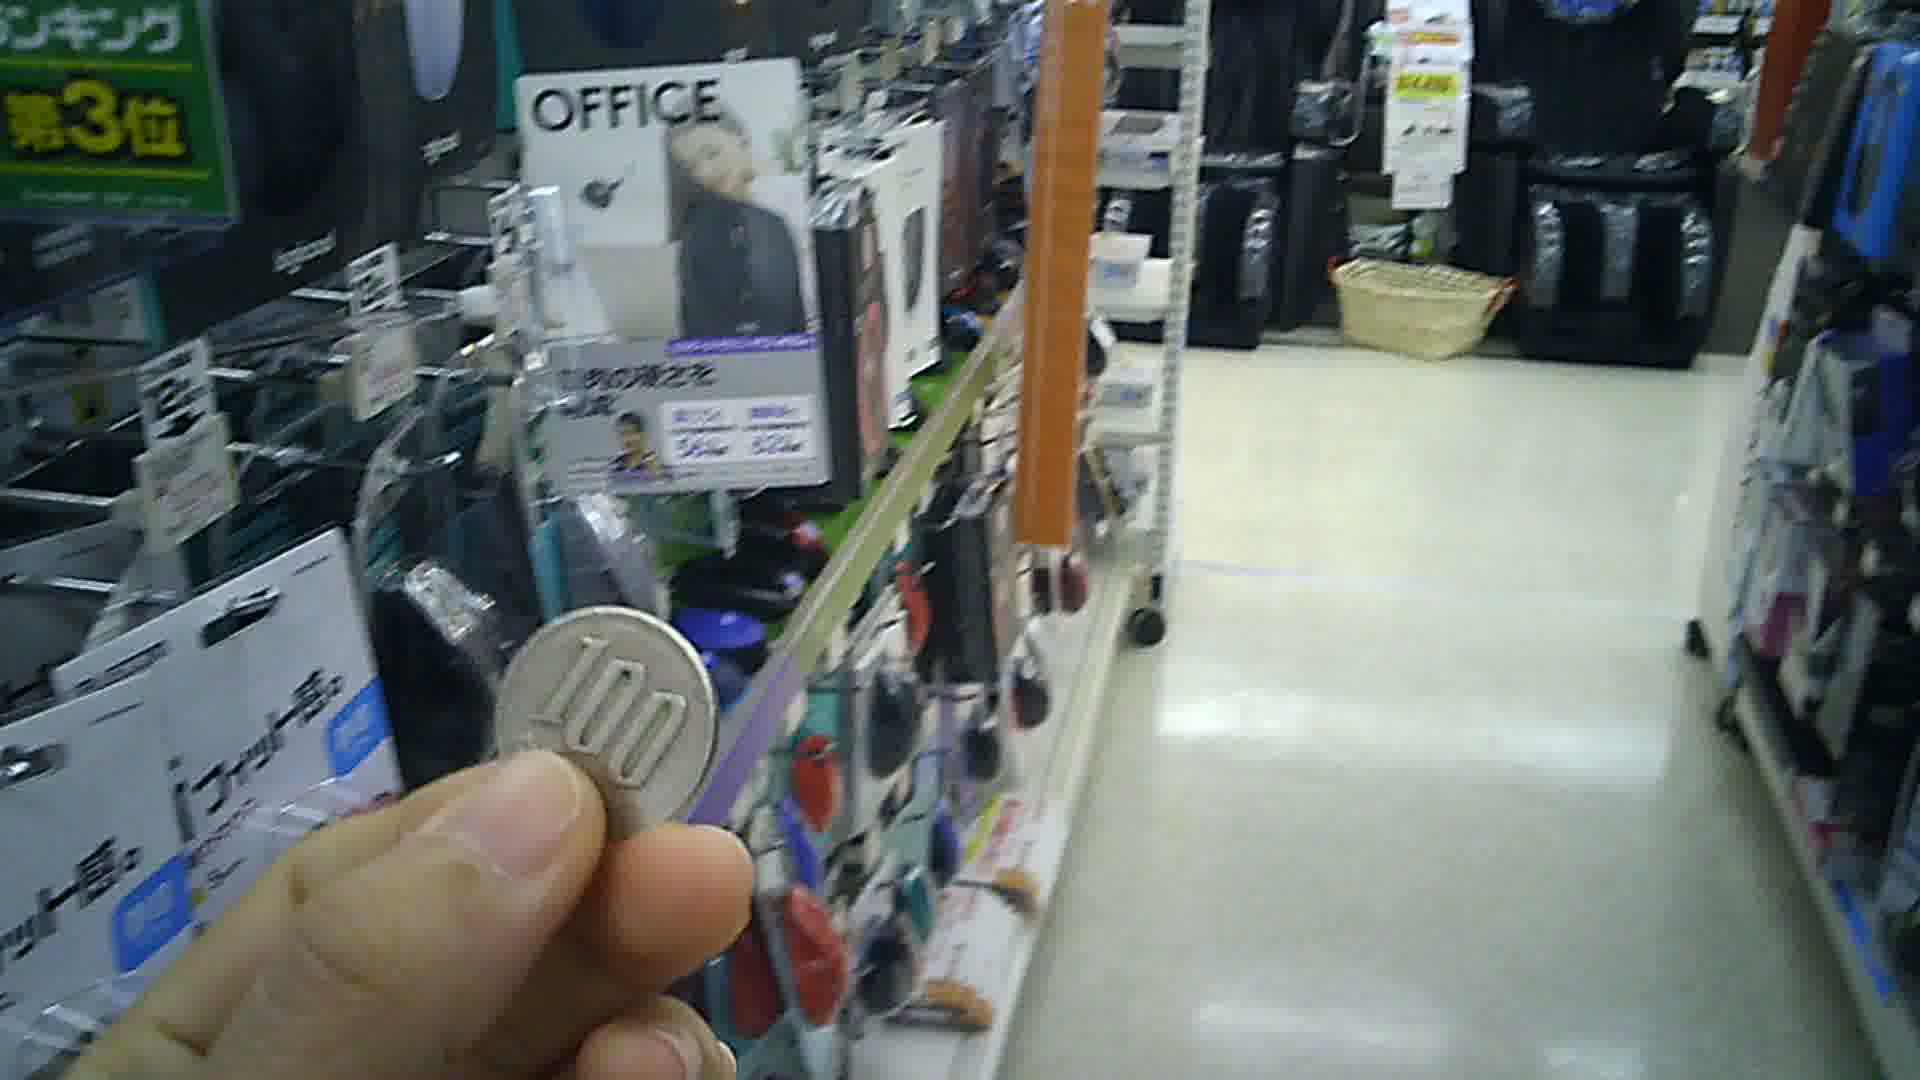100 Yen: (491, 597, 723, 845)
